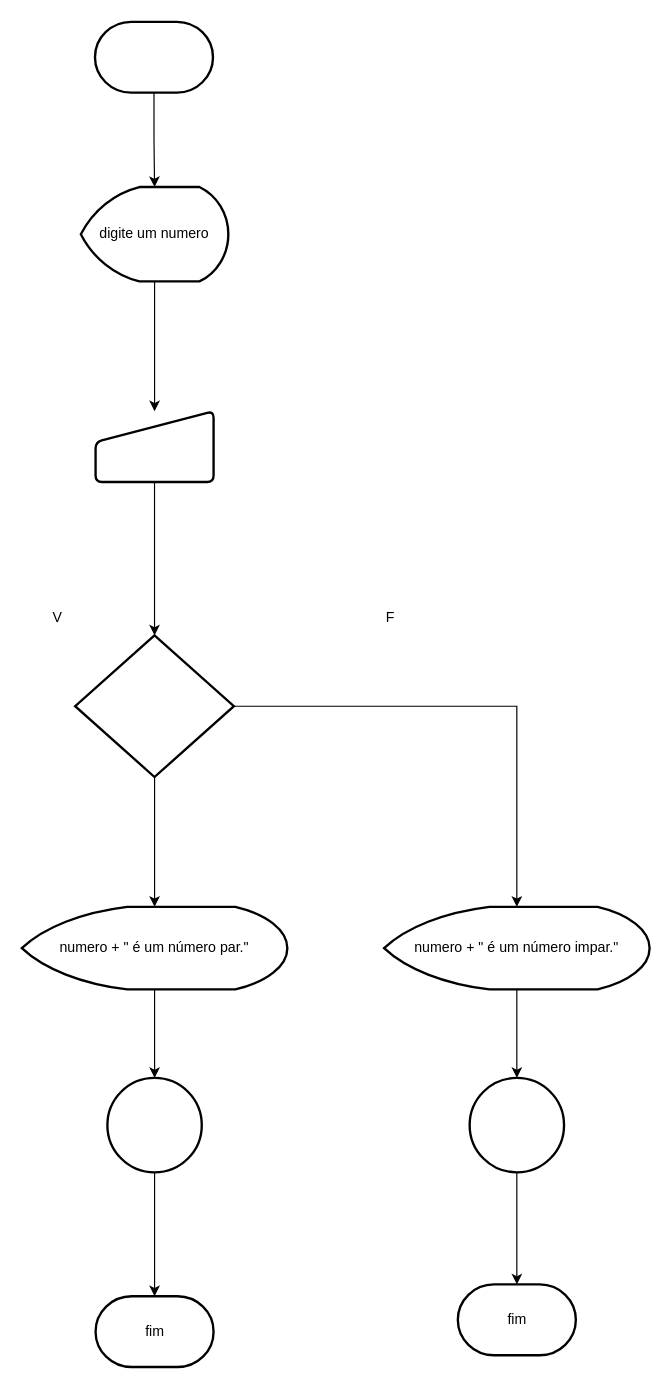
The diagram is 670 pixels wide and 1388 high, and some of its shapes have lost their labels. Each missing label, with the centre of its shape:
"inicio" belongs at pixel 153 56.
"numero" belongs at pixel 154 446.
"numero % 2 === 0" belongs at pixel 153 706.
